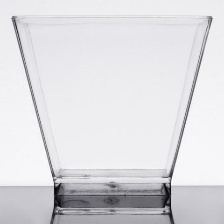glass: (0, 6, 214, 199)
